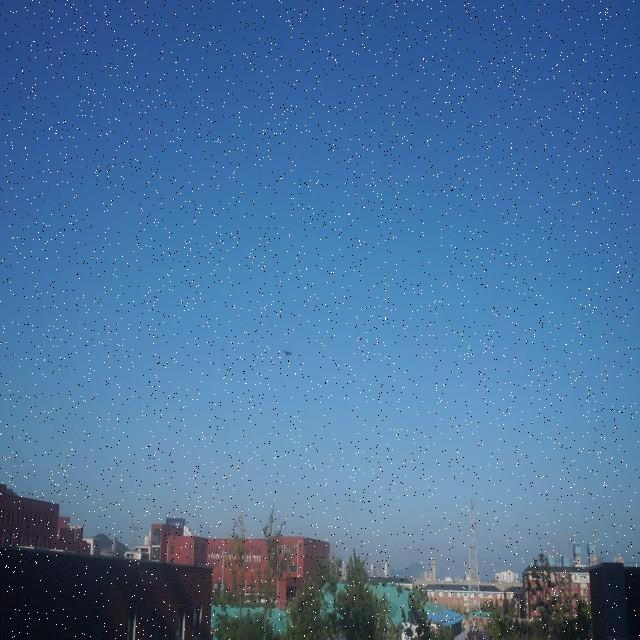UAV: (282, 351, 292, 358)
